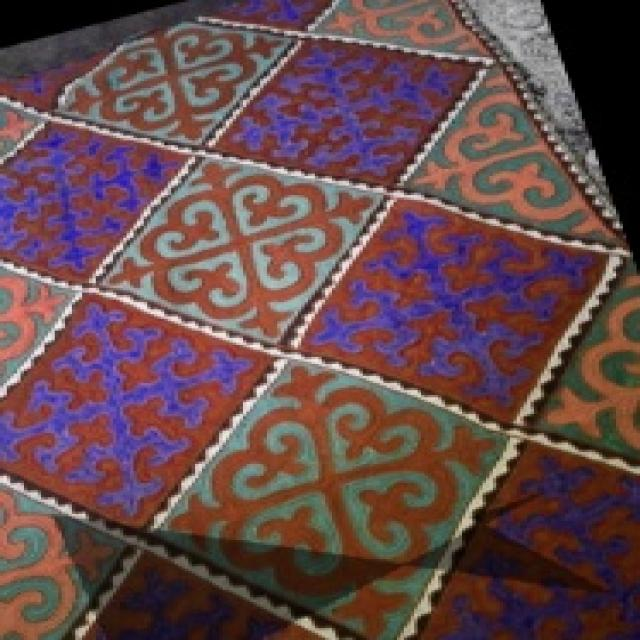Unity: (159, 365, 507, 638), (103, 156, 384, 341), (408, 67, 616, 245), (57, 20, 289, 143)
